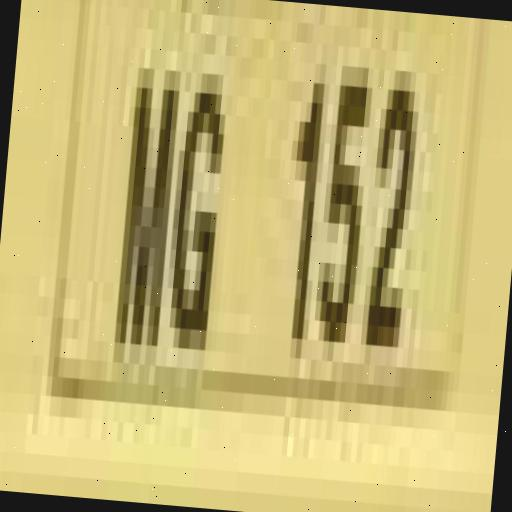number plate: (0, 0, 507, 453)
